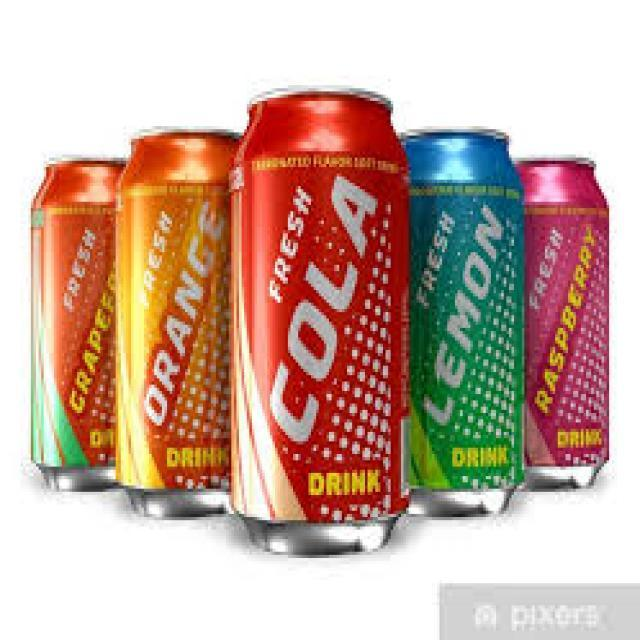recyclable: (230, 84, 412, 556), (398, 128, 526, 520), (117, 126, 243, 522), (514, 156, 614, 494), (27, 155, 127, 490)
